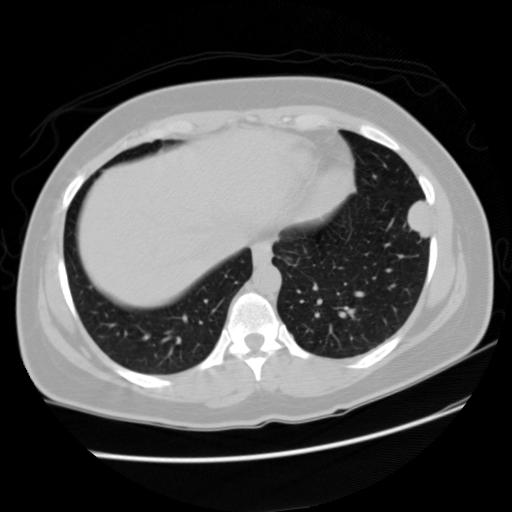nodule: (401, 200, 440, 239)
